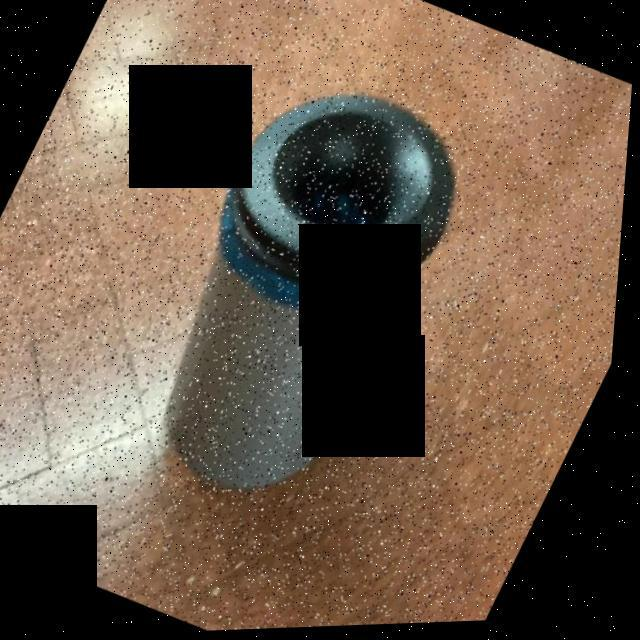bin: (87, 31, 518, 547)
